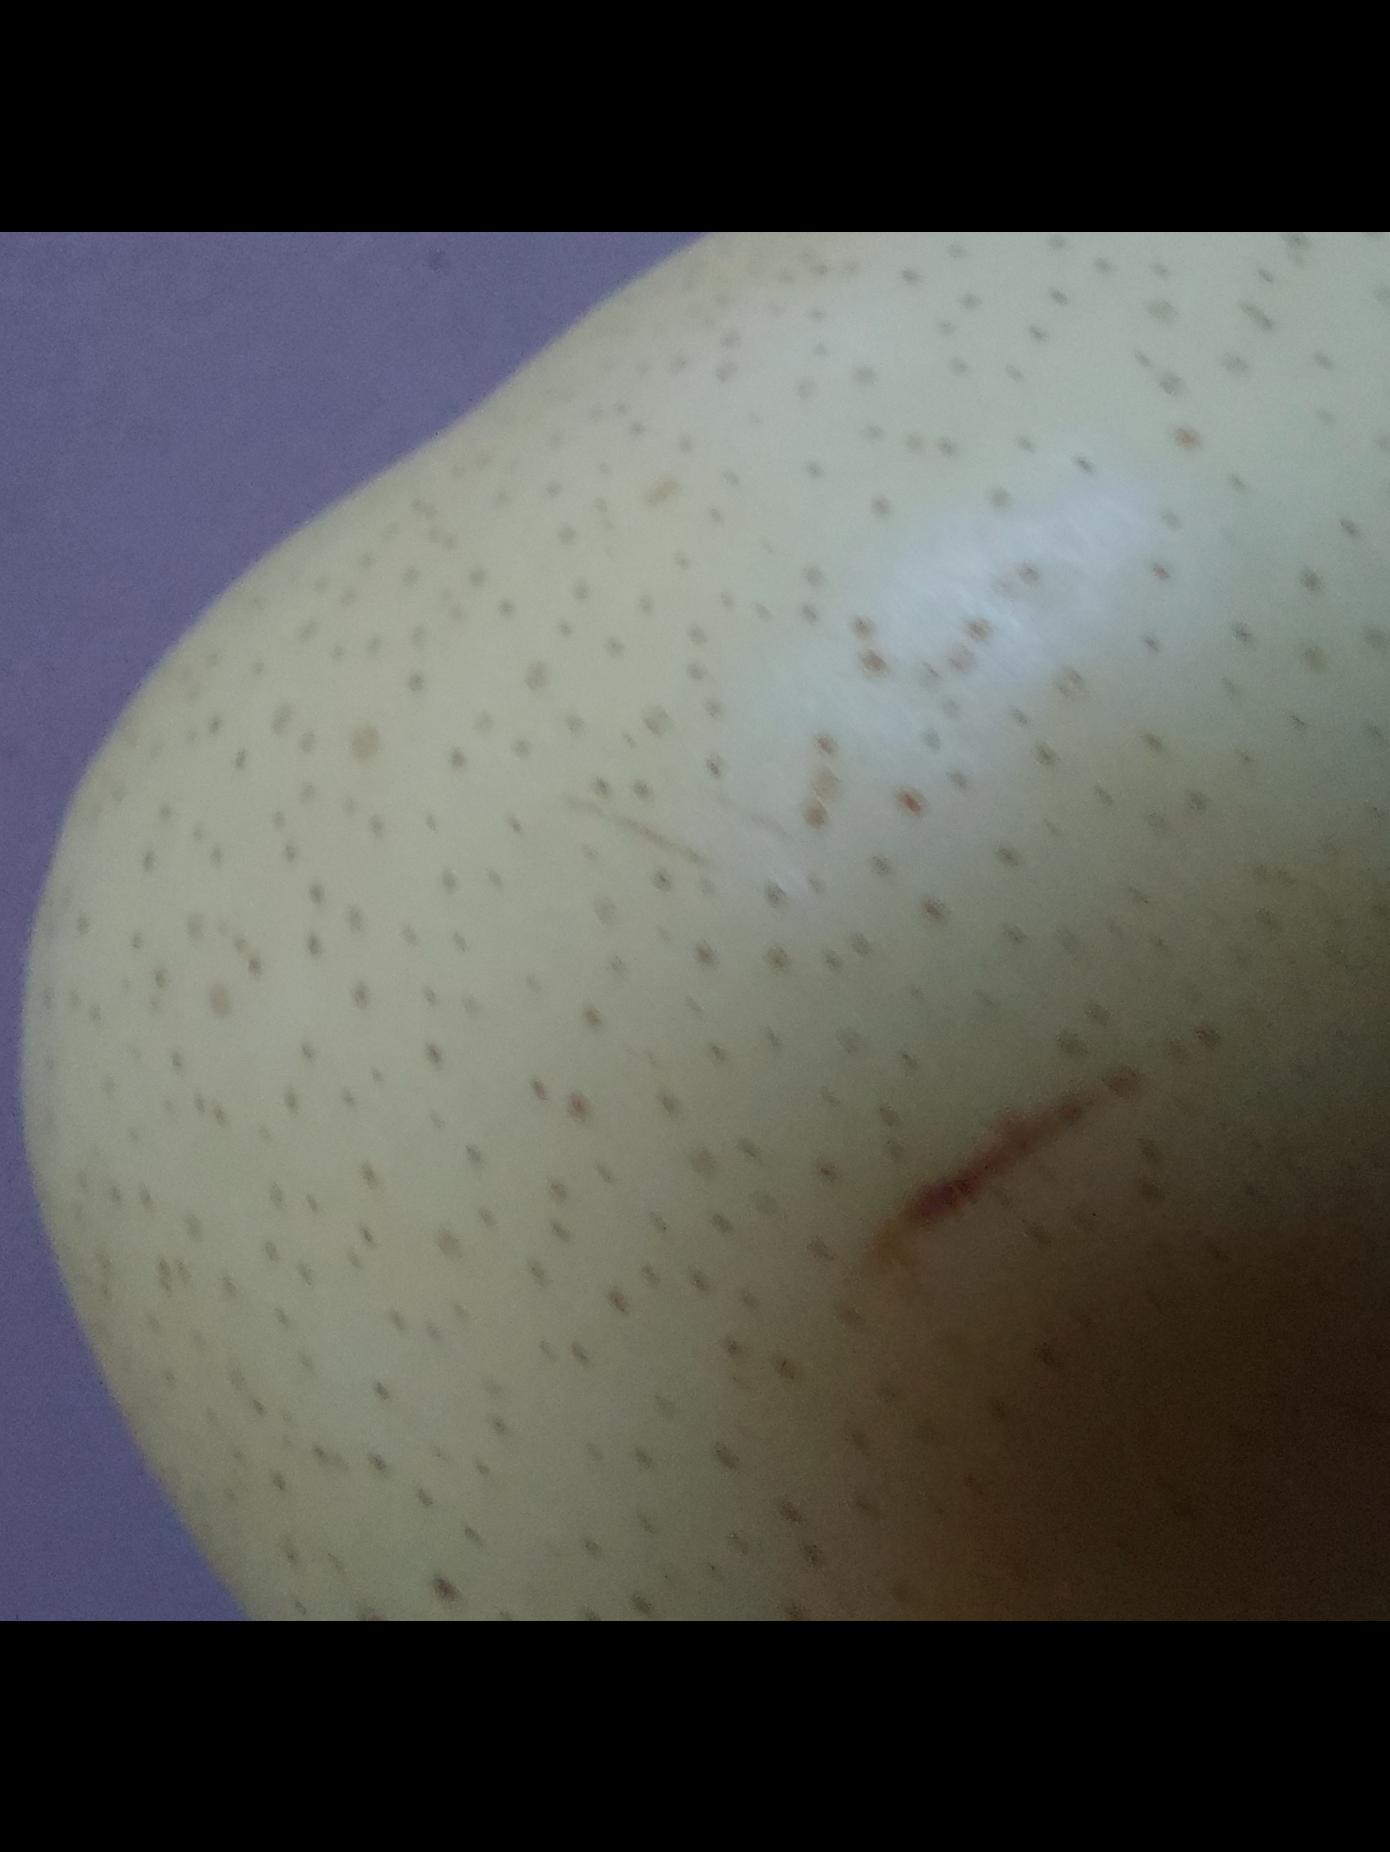Good Pear: (7, 231, 1390, 1621)
